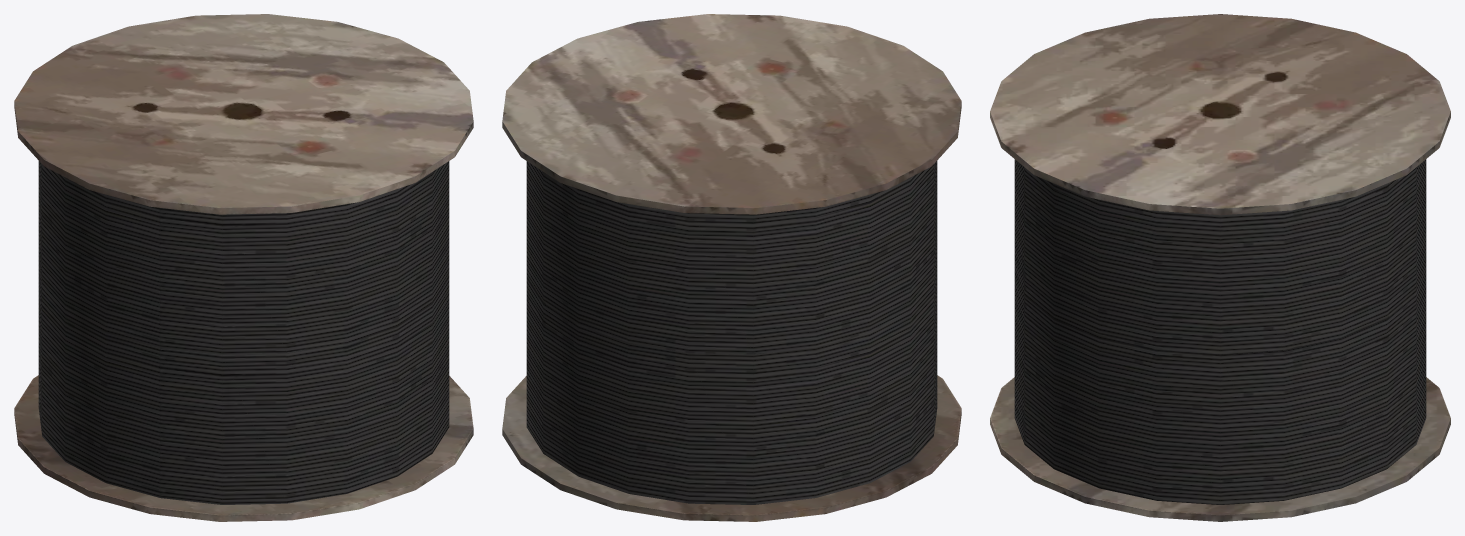
3 views of the same model, side by side, from view 1: azimuth 30°, elevation 25°; view 2: azimuth 150°, elevation 25°; view 3: azimuth 270°, elevation 25° (orthographic).
Visible parts, largest first — view 1: body0_model0_lod0_mesh0; view 2: body0_model0_lod0_mesh0; view 3: body0_model0_lod0_mesh0.
Boxes of the visible parts, left/top/right/bottom form: body0_model0_lod0_mesh0: left=14, top=14, right=473, bottom=521; body0_model0_lod0_mesh0: left=502, top=14, right=961, bottom=521; body0_model0_lod0_mesh0: left=990, top=14, right=1450, bottom=521.
Bounding box in the file's own units: 64 × 48 × 64.
1 material, 1 textured.
